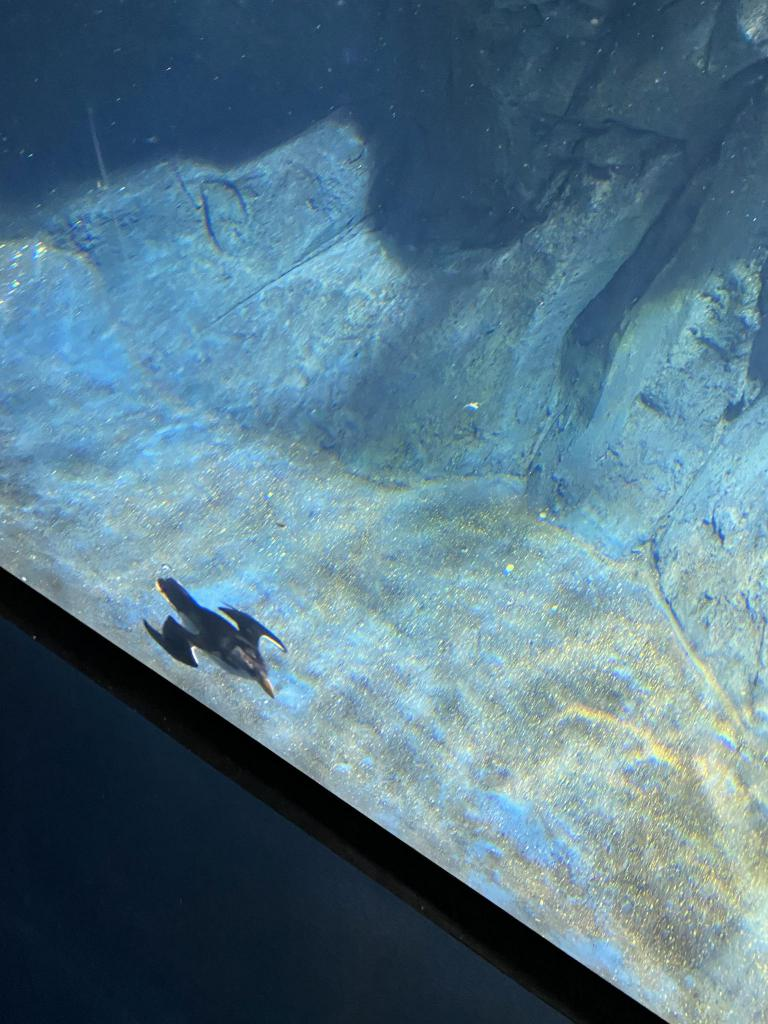puffin: (144, 572, 288, 698)
